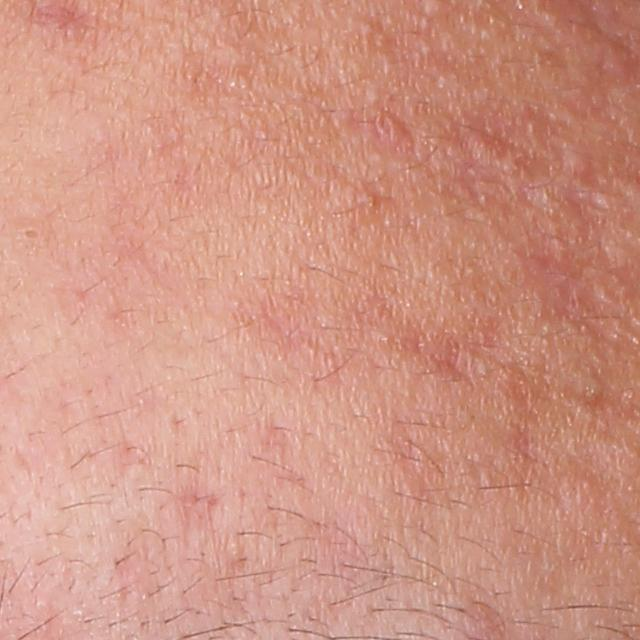comedo: (20, 223, 43, 248)
